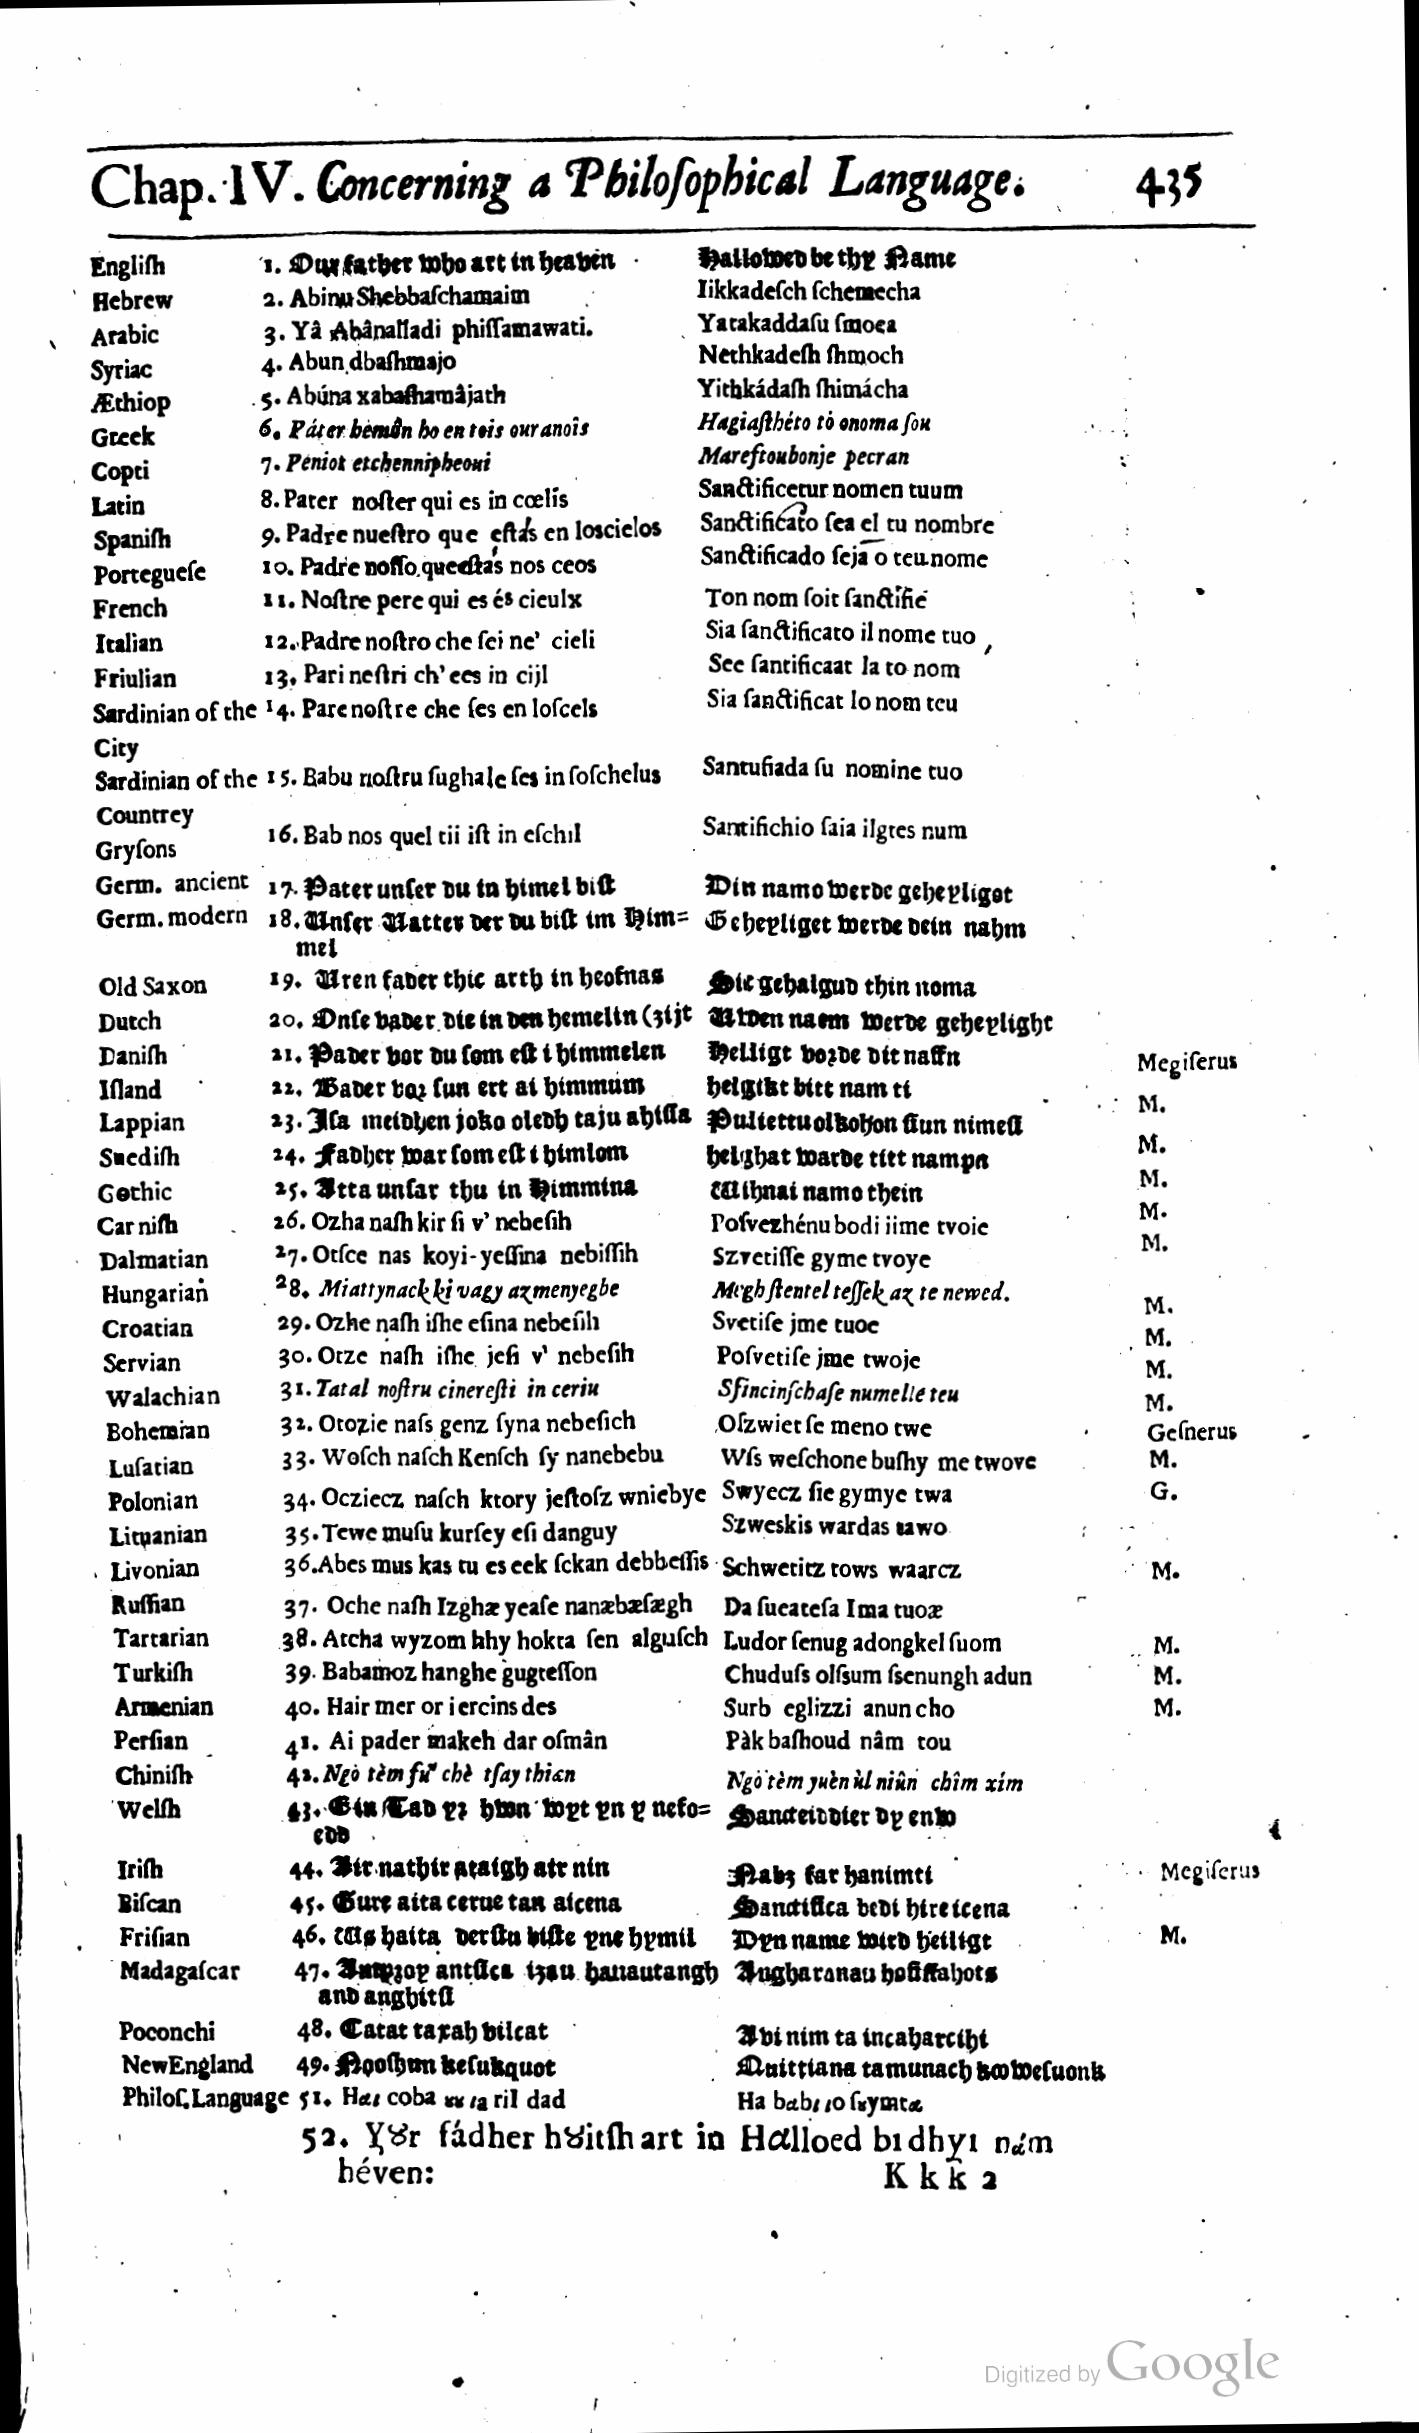header: (88, 155, 1034, 218)
page_num: (1132, 157, 1211, 211)
signature: (878, 2156, 1005, 2197)
text_viz: (90, 245, 1265, 2192)
